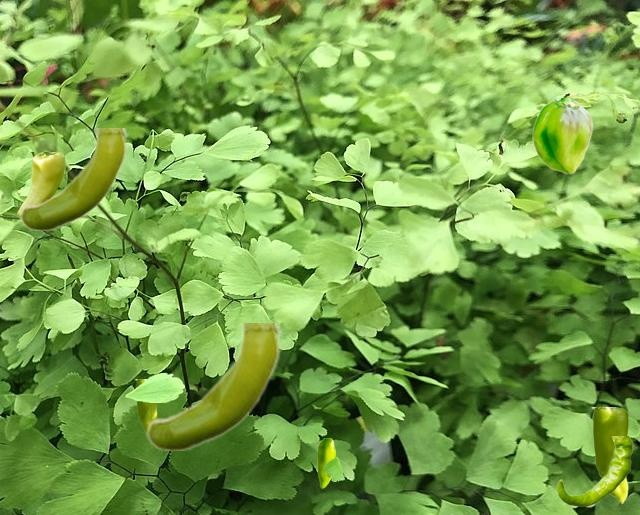green_chili: (145, 323, 281, 449), (19, 128, 127, 229), (557, 436, 632, 506), (532, 98, 592, 173), (591, 407, 627, 502), (17, 152, 64, 216), (135, 379, 157, 431), (317, 438, 334, 487)
